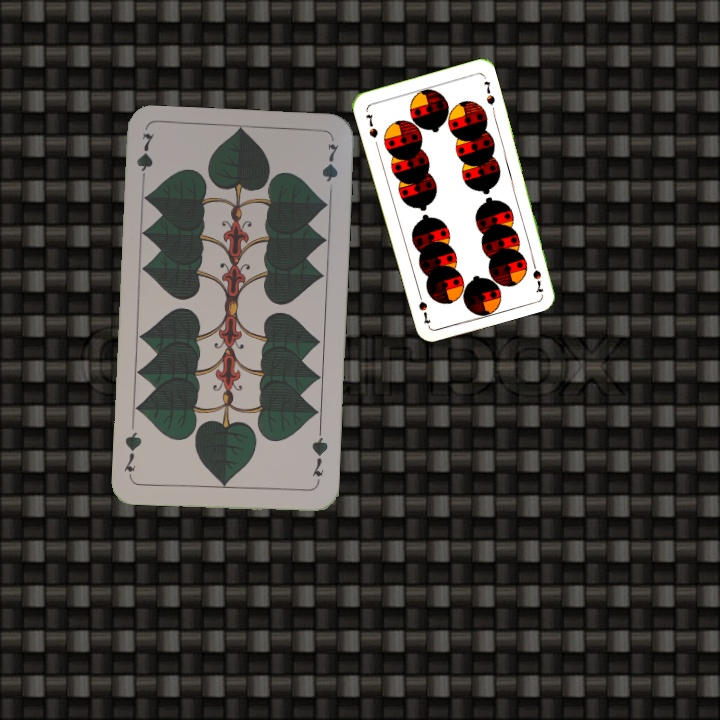G7: (133, 129, 157, 189), (308, 427, 331, 486)
S7: (528, 255, 546, 295), (362, 110, 380, 140)
